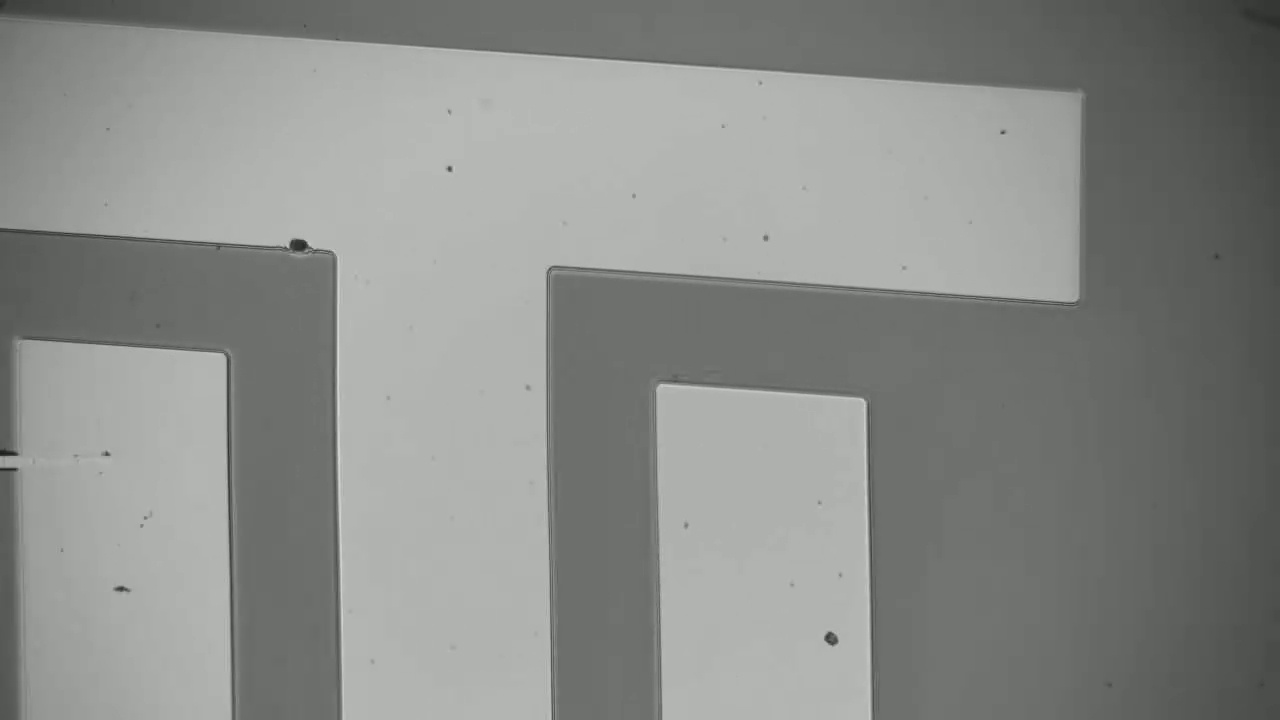Short_circuit: (0, 439, 45, 488)
